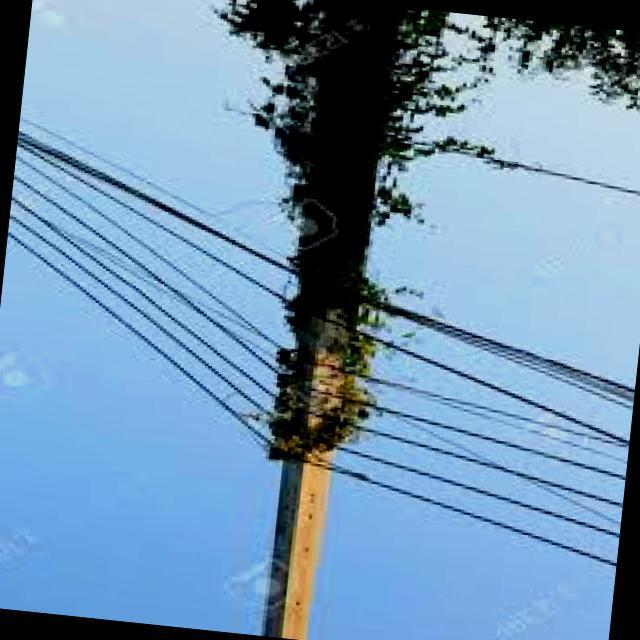critical vegetation: (82, 193, 486, 542)
